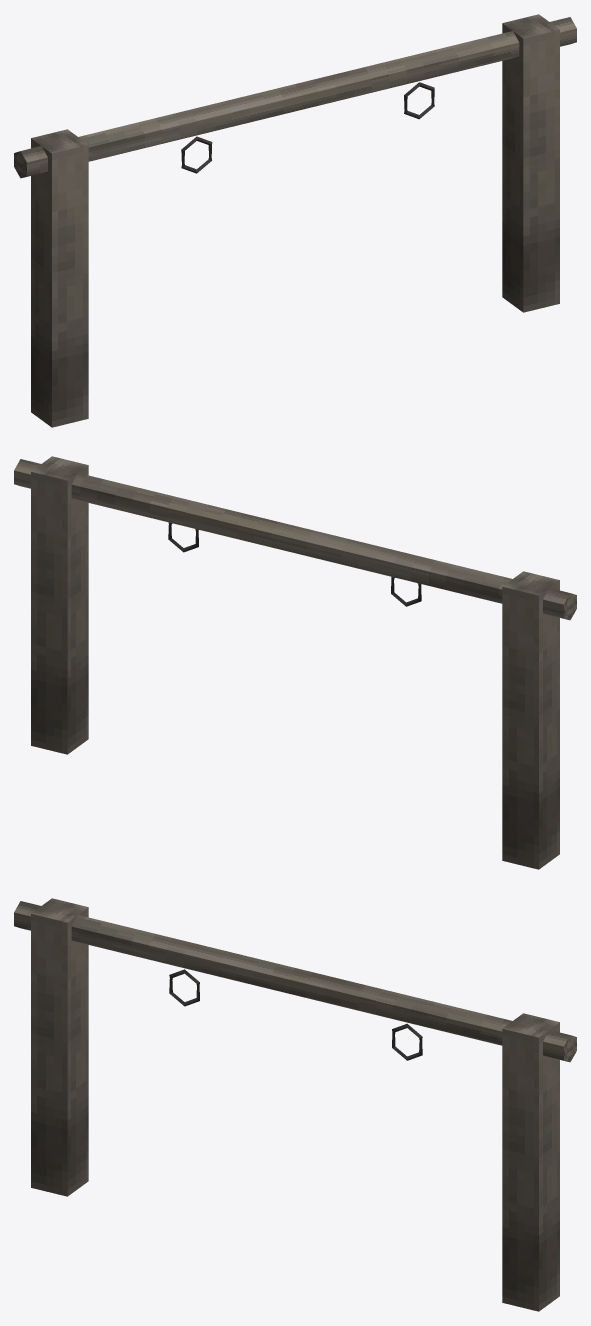
The model's file is hitching_post.glb.
The picture shows the model from 3 angles, top to bottom: view 1: azimuth 30°, elevation 25°; view 2: azimuth 150°, elevation 25°; view 3: azimuth 330°, elevation 25°; orthographic projection.
Parts seen in each view (by area): view 1: hitching_post; view 2: hitching_post; view 3: hitching_post.
Part boxes in pixels (x1,y1,x2,y2): hitching_post: [14, 14, 576, 427]; hitching_post: [14, 456, 576, 869]; hitching_post: [14, 898, 576, 1311].
Bounding box in the file's own units: 2.1 × 1 × 0.14.
Materials: 1 (1 with a texture image).
